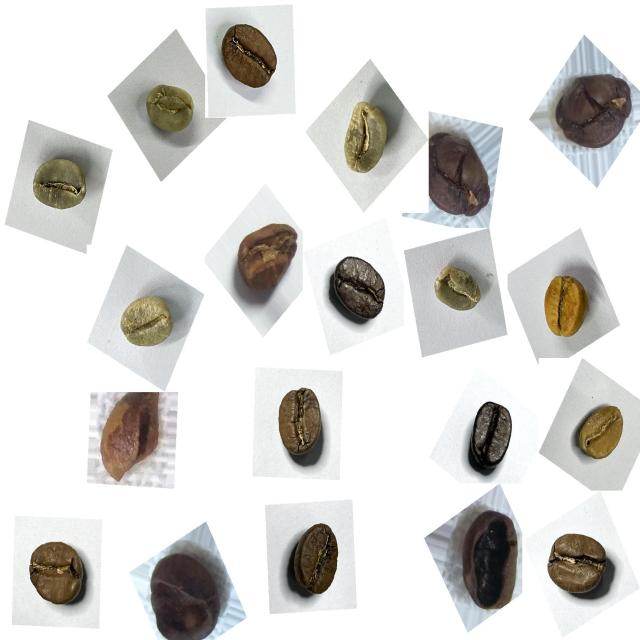bad: (141, 534, 234, 637), (544, 56, 634, 161), (414, 119, 498, 231), (450, 501, 530, 618), (92, 386, 169, 489), (228, 212, 308, 308)
dark: (322, 243, 396, 334), (461, 390, 524, 477)
green: (21, 143, 97, 228), (110, 284, 182, 364), (134, 70, 204, 150), (333, 90, 397, 176), (424, 253, 489, 325)
light: (530, 258, 603, 349), (568, 389, 638, 475)
medium: (536, 520, 622, 610), (263, 378, 340, 476), (278, 513, 352, 610), (210, 15, 290, 104), (18, 530, 96, 618)
